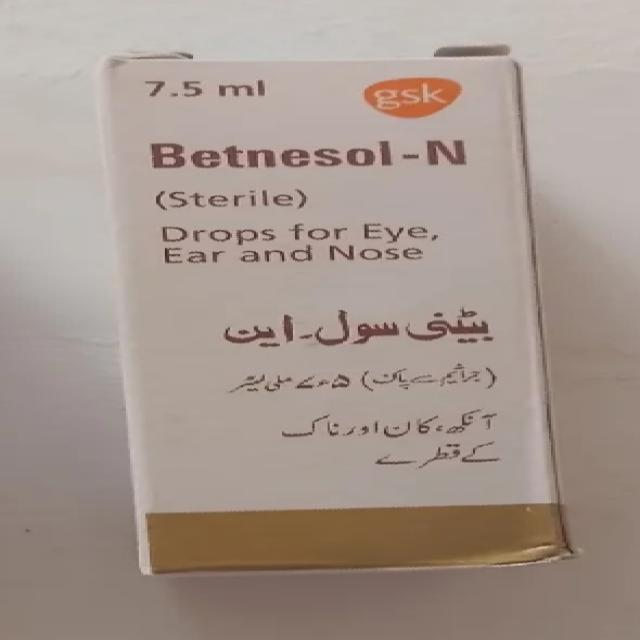drug-name: (137, 132, 481, 174)
